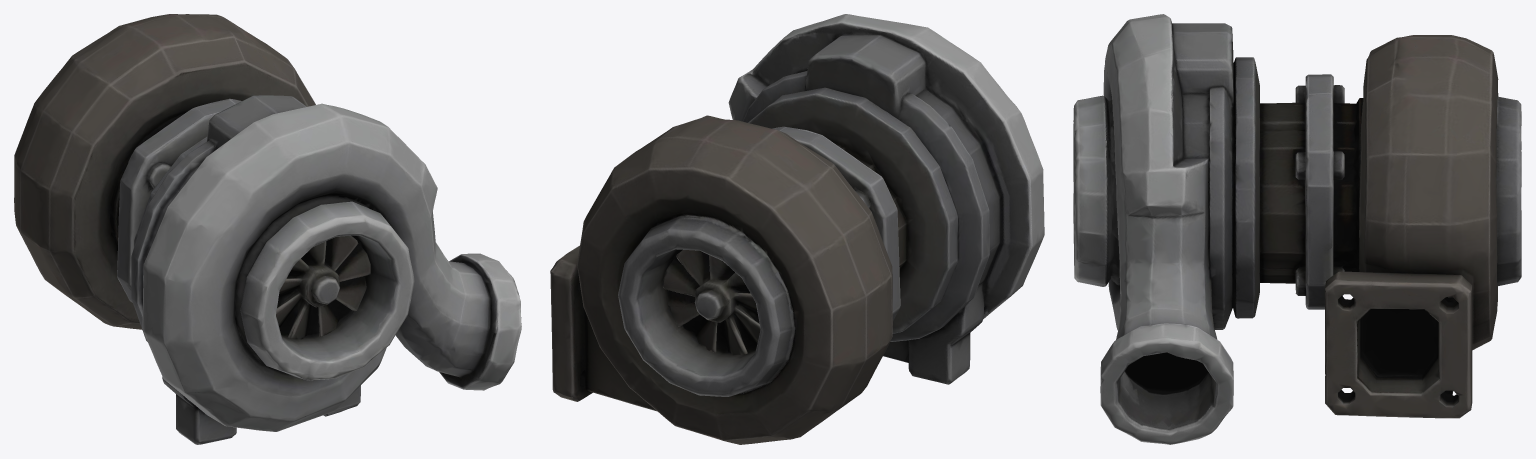
File: turbocharger_1k_real.glb
The picture shows the model from 3 angles, left to right: view 1: azimuth 30°, elevation 25°; view 2: azimuth 150°, elevation 25°; view 3: azimuth 270°, elevation 25°; orthographic projection. The views are drawn at different scales.
Visible parts, largest first — view 1: tripo_node_8132940d-5351-424b-97e6-fa98b882911e; view 2: tripo_node_8132940d-5351-424b-97e6-fa98b882911e; view 3: tripo_node_8132940d-5351-424b-97e6-fa98b882911e.
Boxes of the visible parts, bbox=[...] form: tripo_node_8132940d-5351-424b-97e6-fa98b882911e: bbox=[14, 14, 521, 444]; tripo_node_8132940d-5351-424b-97e6-fa98b882911e: bbox=[550, 14, 1044, 444]; tripo_node_8132940d-5351-424b-97e6-fa98b882911e: bbox=[1073, 14, 1521, 444].
Size of the model in its own units: 0.9437 by 0.7963 by 1.
1 material, 1 textured.
